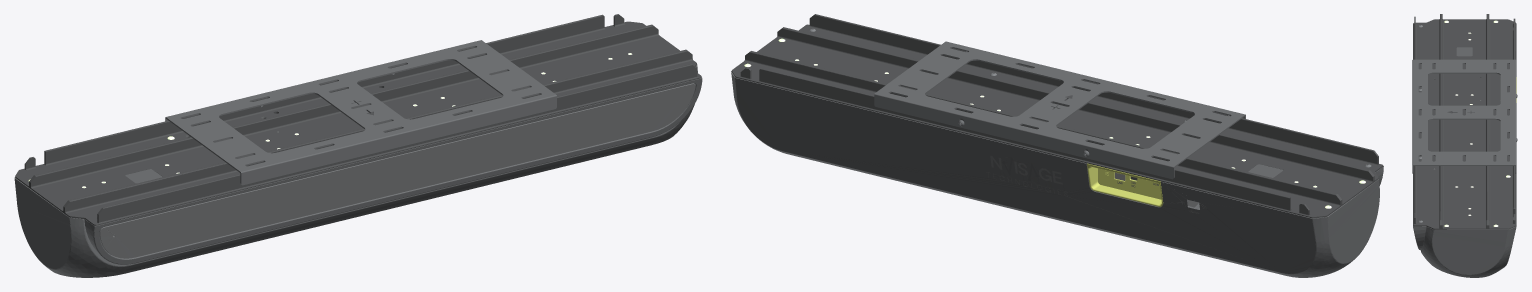
Rendered from sensor-n2-IWMhjUWT.glb.
3 views of the same model, side by side, from view 1: azimuth 30°, elevation 25°; view 2: azimuth 150°, elevation 25°; view 3: azimuth 270°, elevation 25° (orthographic). The views are drawn at different scales.
Parts seen in each view (by area): view 1: N2-part-05, N2-part-00, N2-part-06; view 2: N2-part-00, N2-part-05, N2-part-08, N2-part-06; view 3: N2-part-05, N2-part-00, N2-part-06, N2-part-01, N2-part-02.
Boxes of the visible parts, left/top/right/bottom form: N2-part-05: left=15, top=14, right=701, bottom=225; N2-part-00: left=14, top=40, right=702, bottom=277; N2-part-06: left=14, top=64, right=701, bottom=258; N2-part-00: left=731, top=41, right=1383, bottom=277; N2-part-05: left=731, top=14, right=1383, bottom=218; N2-part-08: left=1087, top=163, right=1163, bottom=206; N2-part-06: left=731, top=71, right=1383, bottom=218; N2-part-05: left=1413, top=14, right=1516, bottom=229; N2-part-00: left=1412, top=59, right=1516, bottom=277; N2-part-06: left=1413, top=24, right=1516, bottom=229; N2-part-01: left=1456, top=47, right=1472, bottom=56; N2-part-02: left=1444, top=20, right=1510, bottom=226.
Size of the model in its own units: 0.9563 by 0.1446 by 0.2023.
